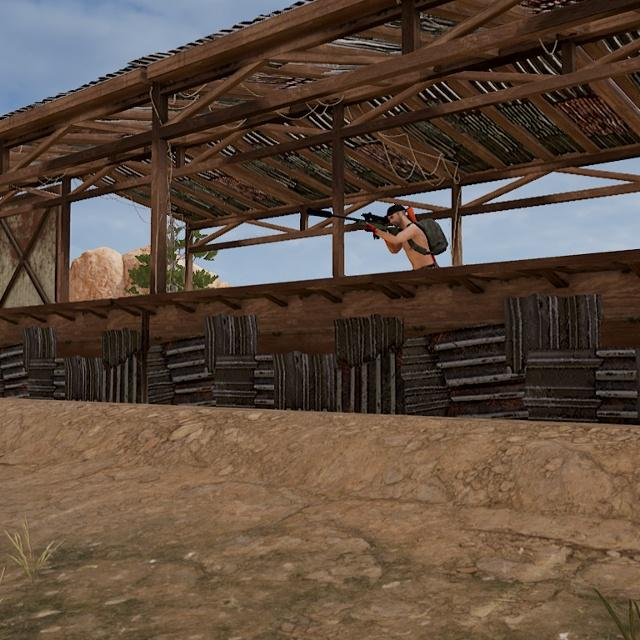head: (384, 204, 411, 229)
people: (367, 204, 439, 269)
